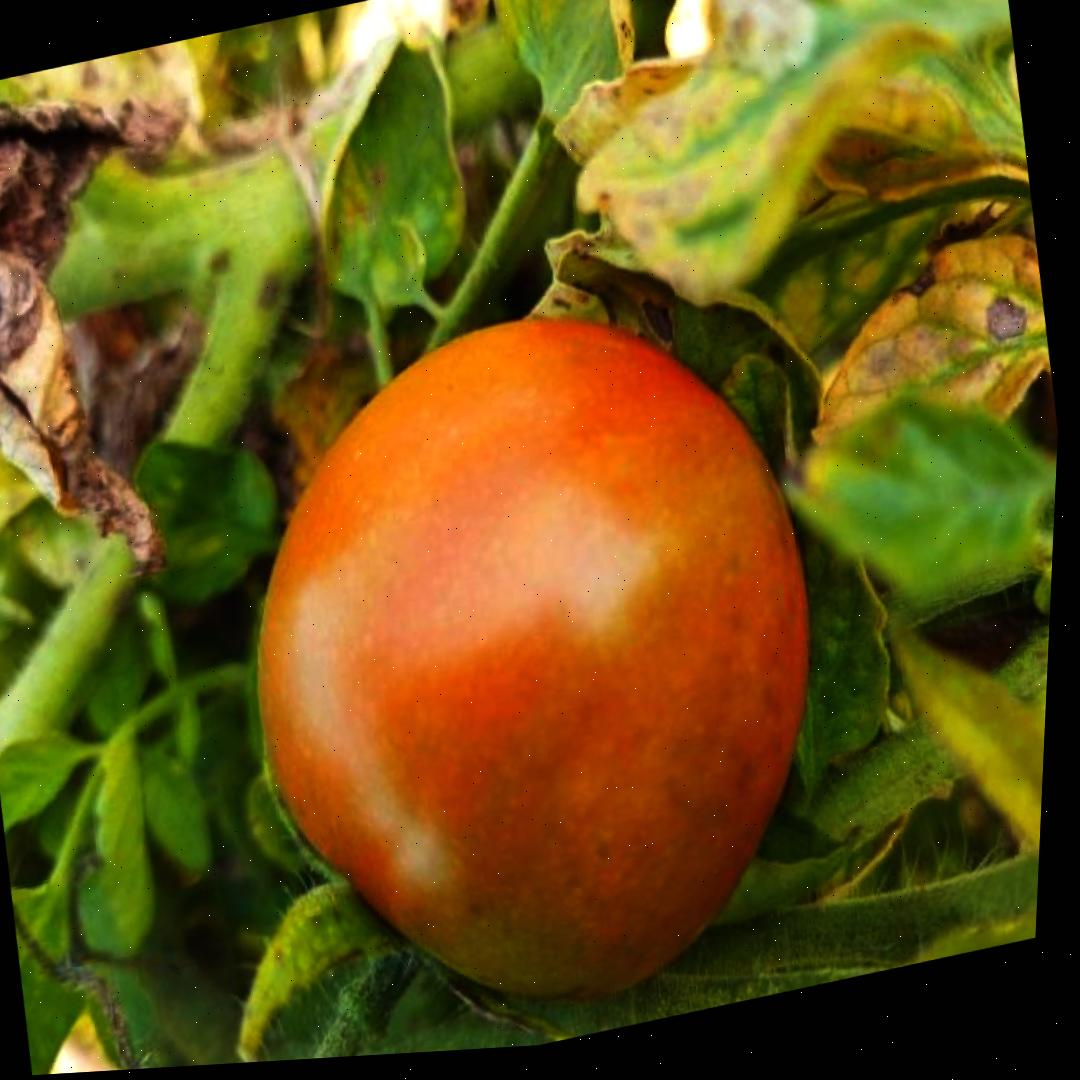setengah_matang: (187, 248, 885, 1066)
